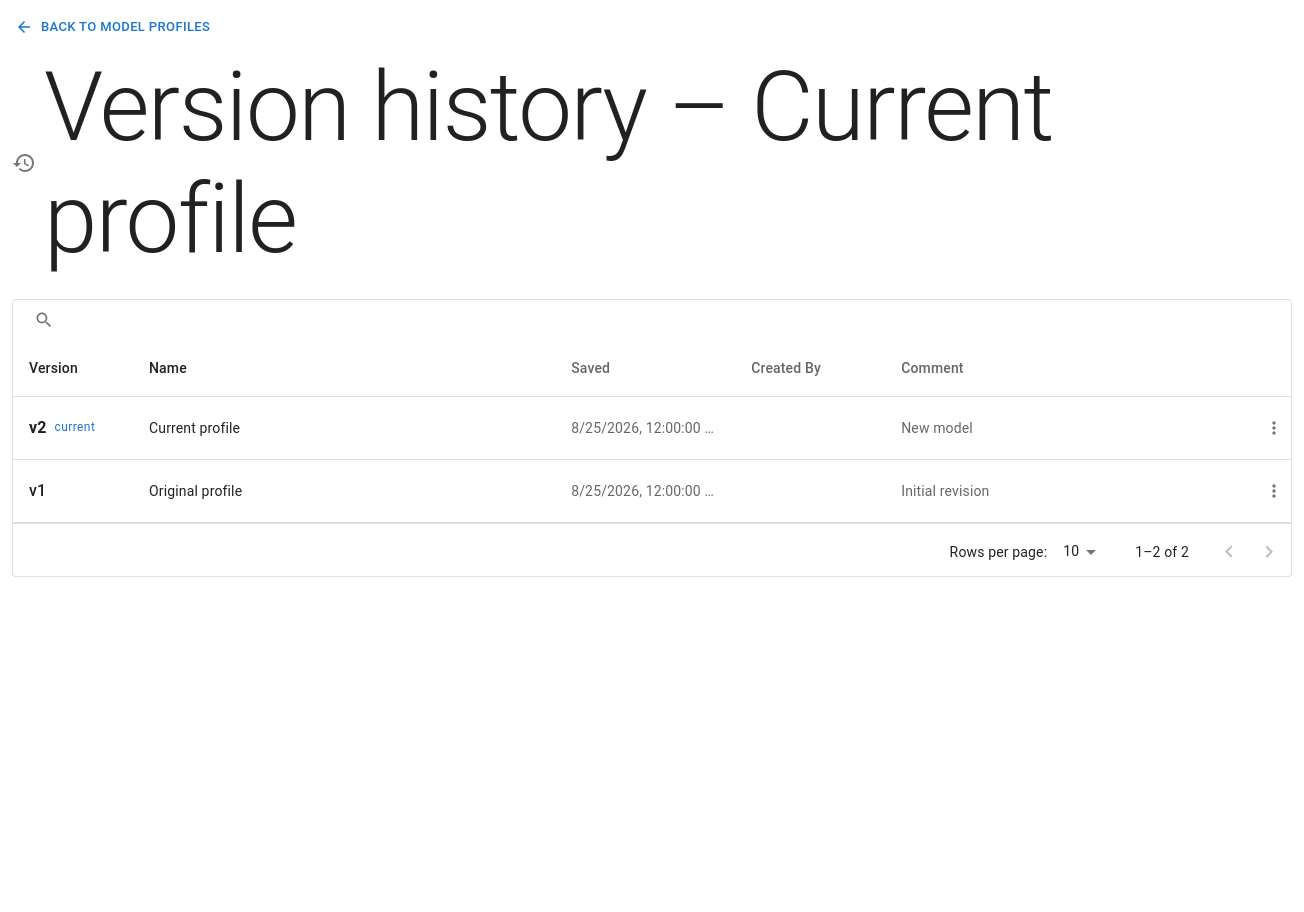
Test: ModelProfileHistory › restores editable settings as a new revision and refreshes history
Check: the text "Current profile" is shown, box x1=149 y1=420 x2=240 y2=436
Click the button named "Actions for version 1" at (1274, 491), box x1=1259 y1=476 x2=1289 y2=506
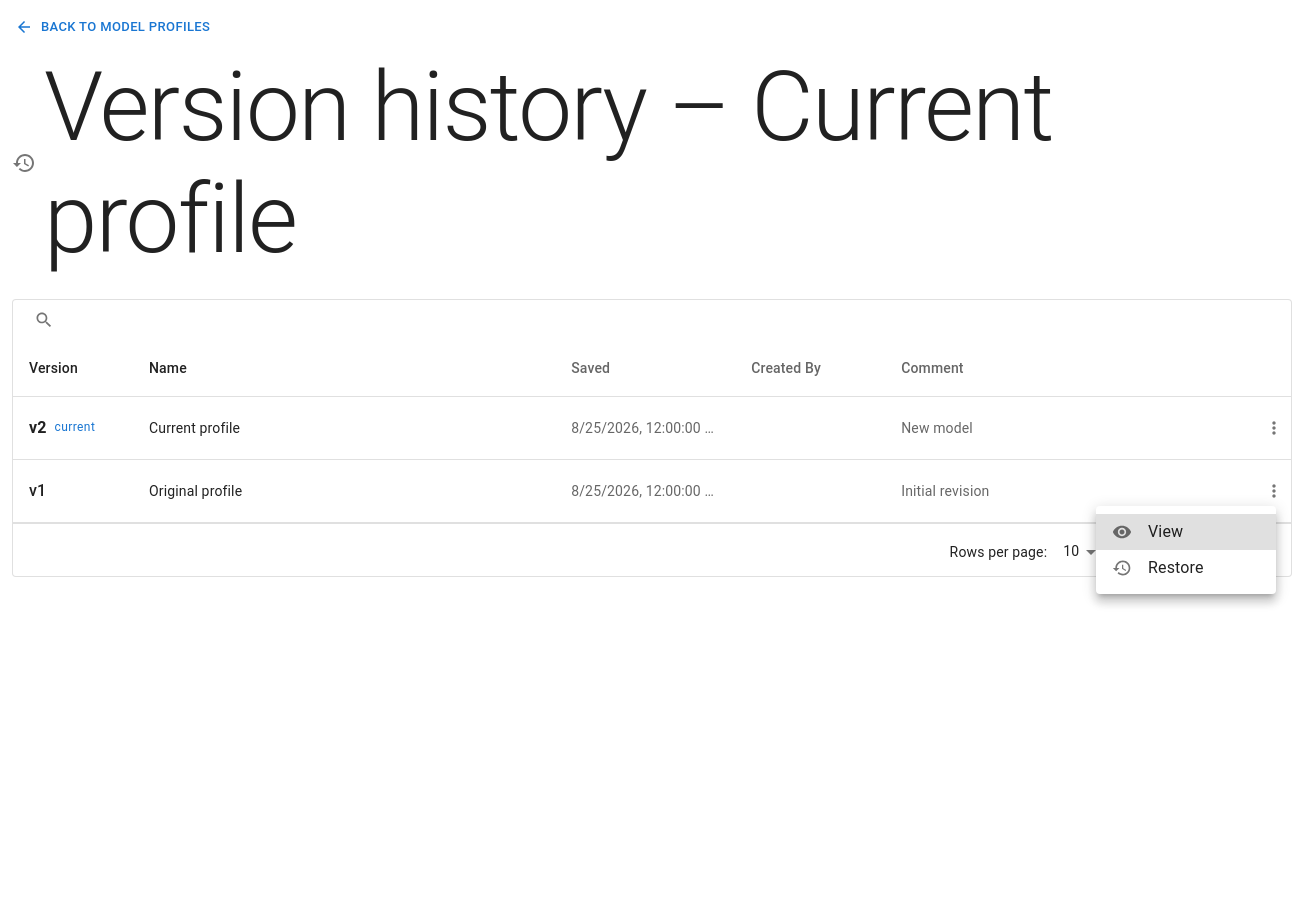
Click the menu item "Restore" at (1158, 568), box x1=1112 y1=558 x2=1204 y2=578
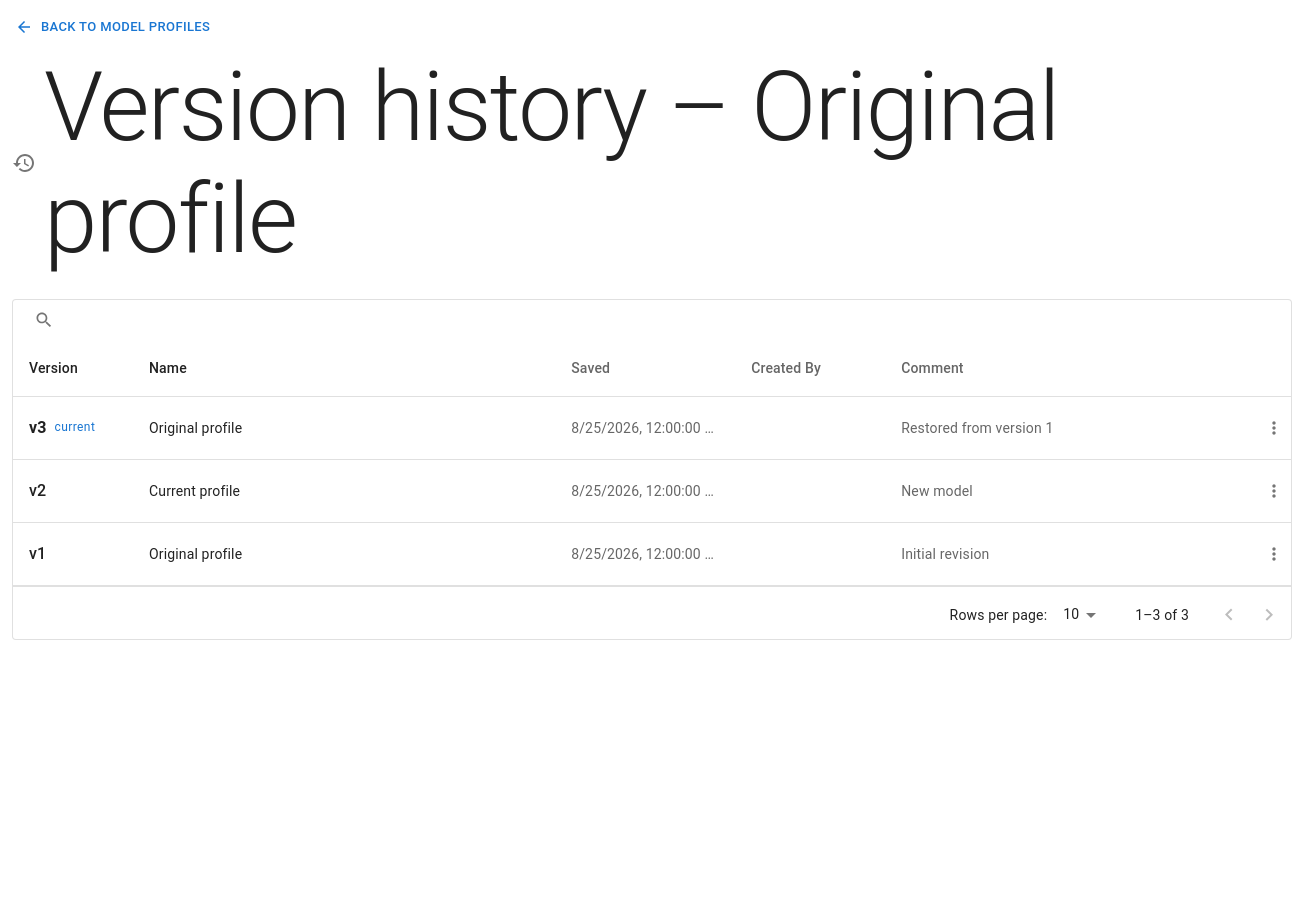
Check: the text "v1" is shown, box x1=29 y1=542 x2=46 y2=566
Check: the text "v3" is shown, box x1=29 y1=416 x2=47 y2=440
Check: the text "Restored from version 1" is shown, box x1=901 y1=420 x2=1054 y2=436
